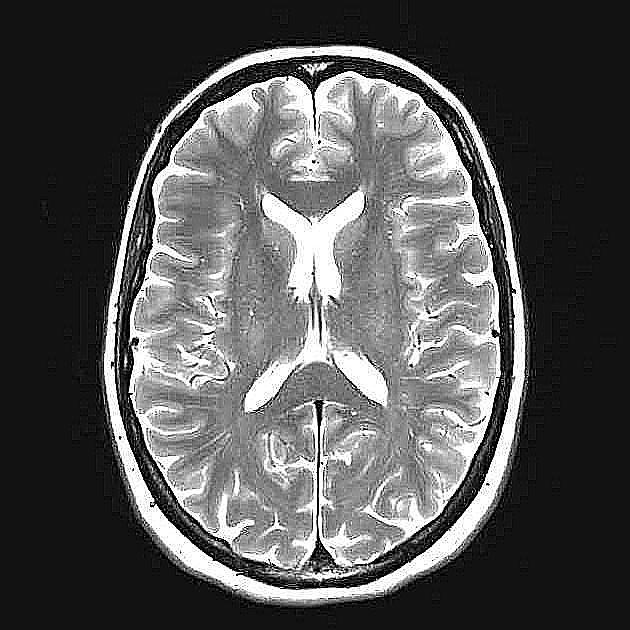Normal_Brain: (6, 9, 630, 630)
